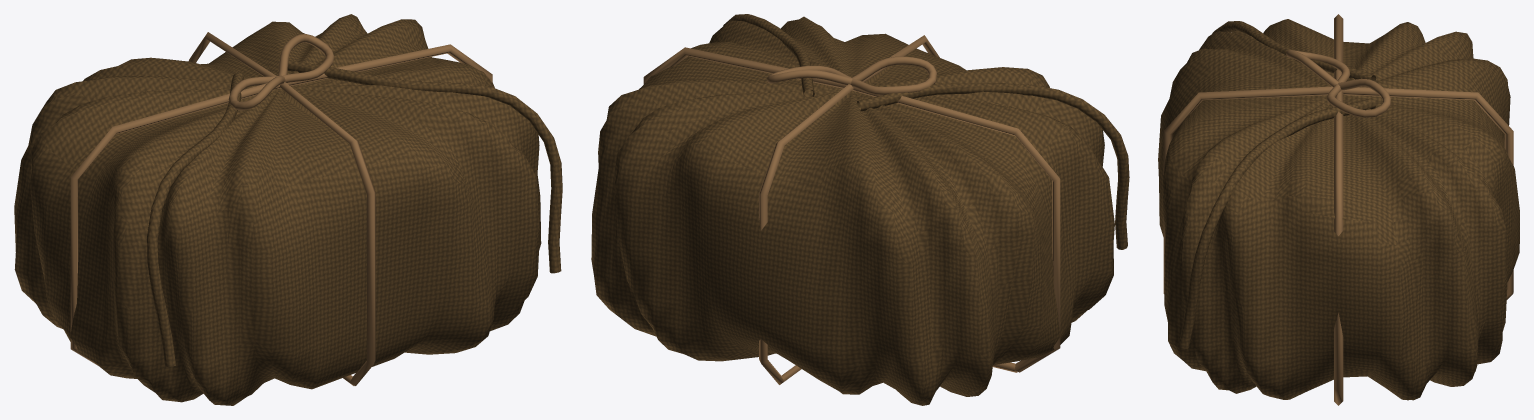
The model's file is kitchen_parcel.glb.
The picture shows the model from 3 angles, left to right: view 1: azimuth 30°, elevation 25°; view 2: azimuth 150°, elevation 25°; view 3: azimuth 270°, elevation 25°; orthographic projection. The views are drawn at different scales.
Visible parts, largest first — view 1: kitchen_parcel; view 2: kitchen_parcel; view 3: kitchen_parcel.
Boxes of the visible parts, bbox=[...] form: kitchen_parcel: bbox=[14, 14, 562, 405]; kitchen_parcel: bbox=[591, 14, 1129, 405]; kitchen_parcel: bbox=[1158, 14, 1519, 405].
Size of the model in its own units: 0.2442 by 0.1459 by 0.1828.
2 materials, 1 textured.
